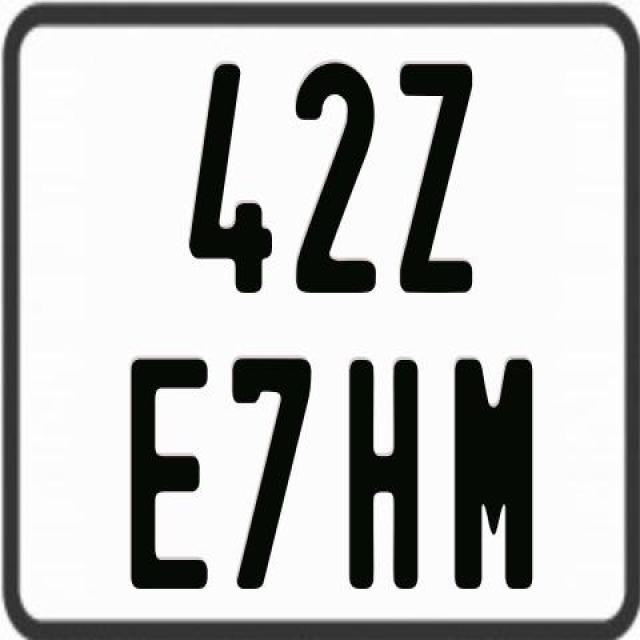2: (292, 61, 380, 300)
4: (188, 60, 272, 298)
7: (230, 355, 310, 595)
E: (128, 355, 212, 592)
H: (348, 357, 420, 589)
M: (453, 353, 531, 592)
Z: (397, 62, 475, 296)
